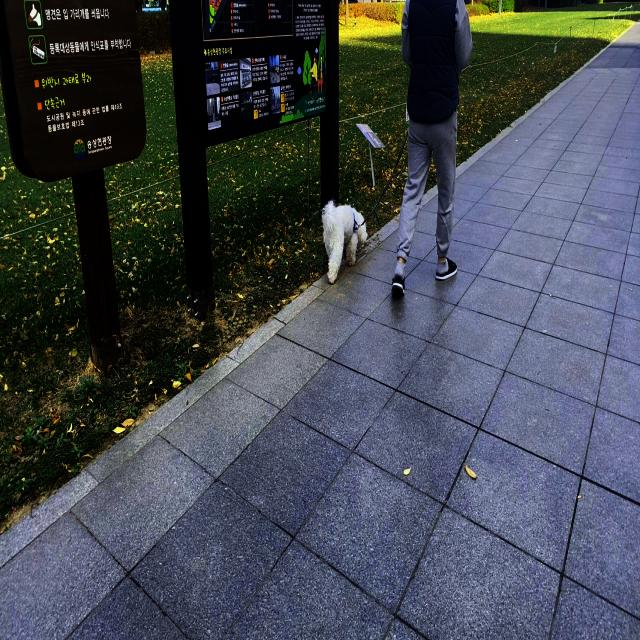Leashed_Dog: (322, 80, 438, 288)
